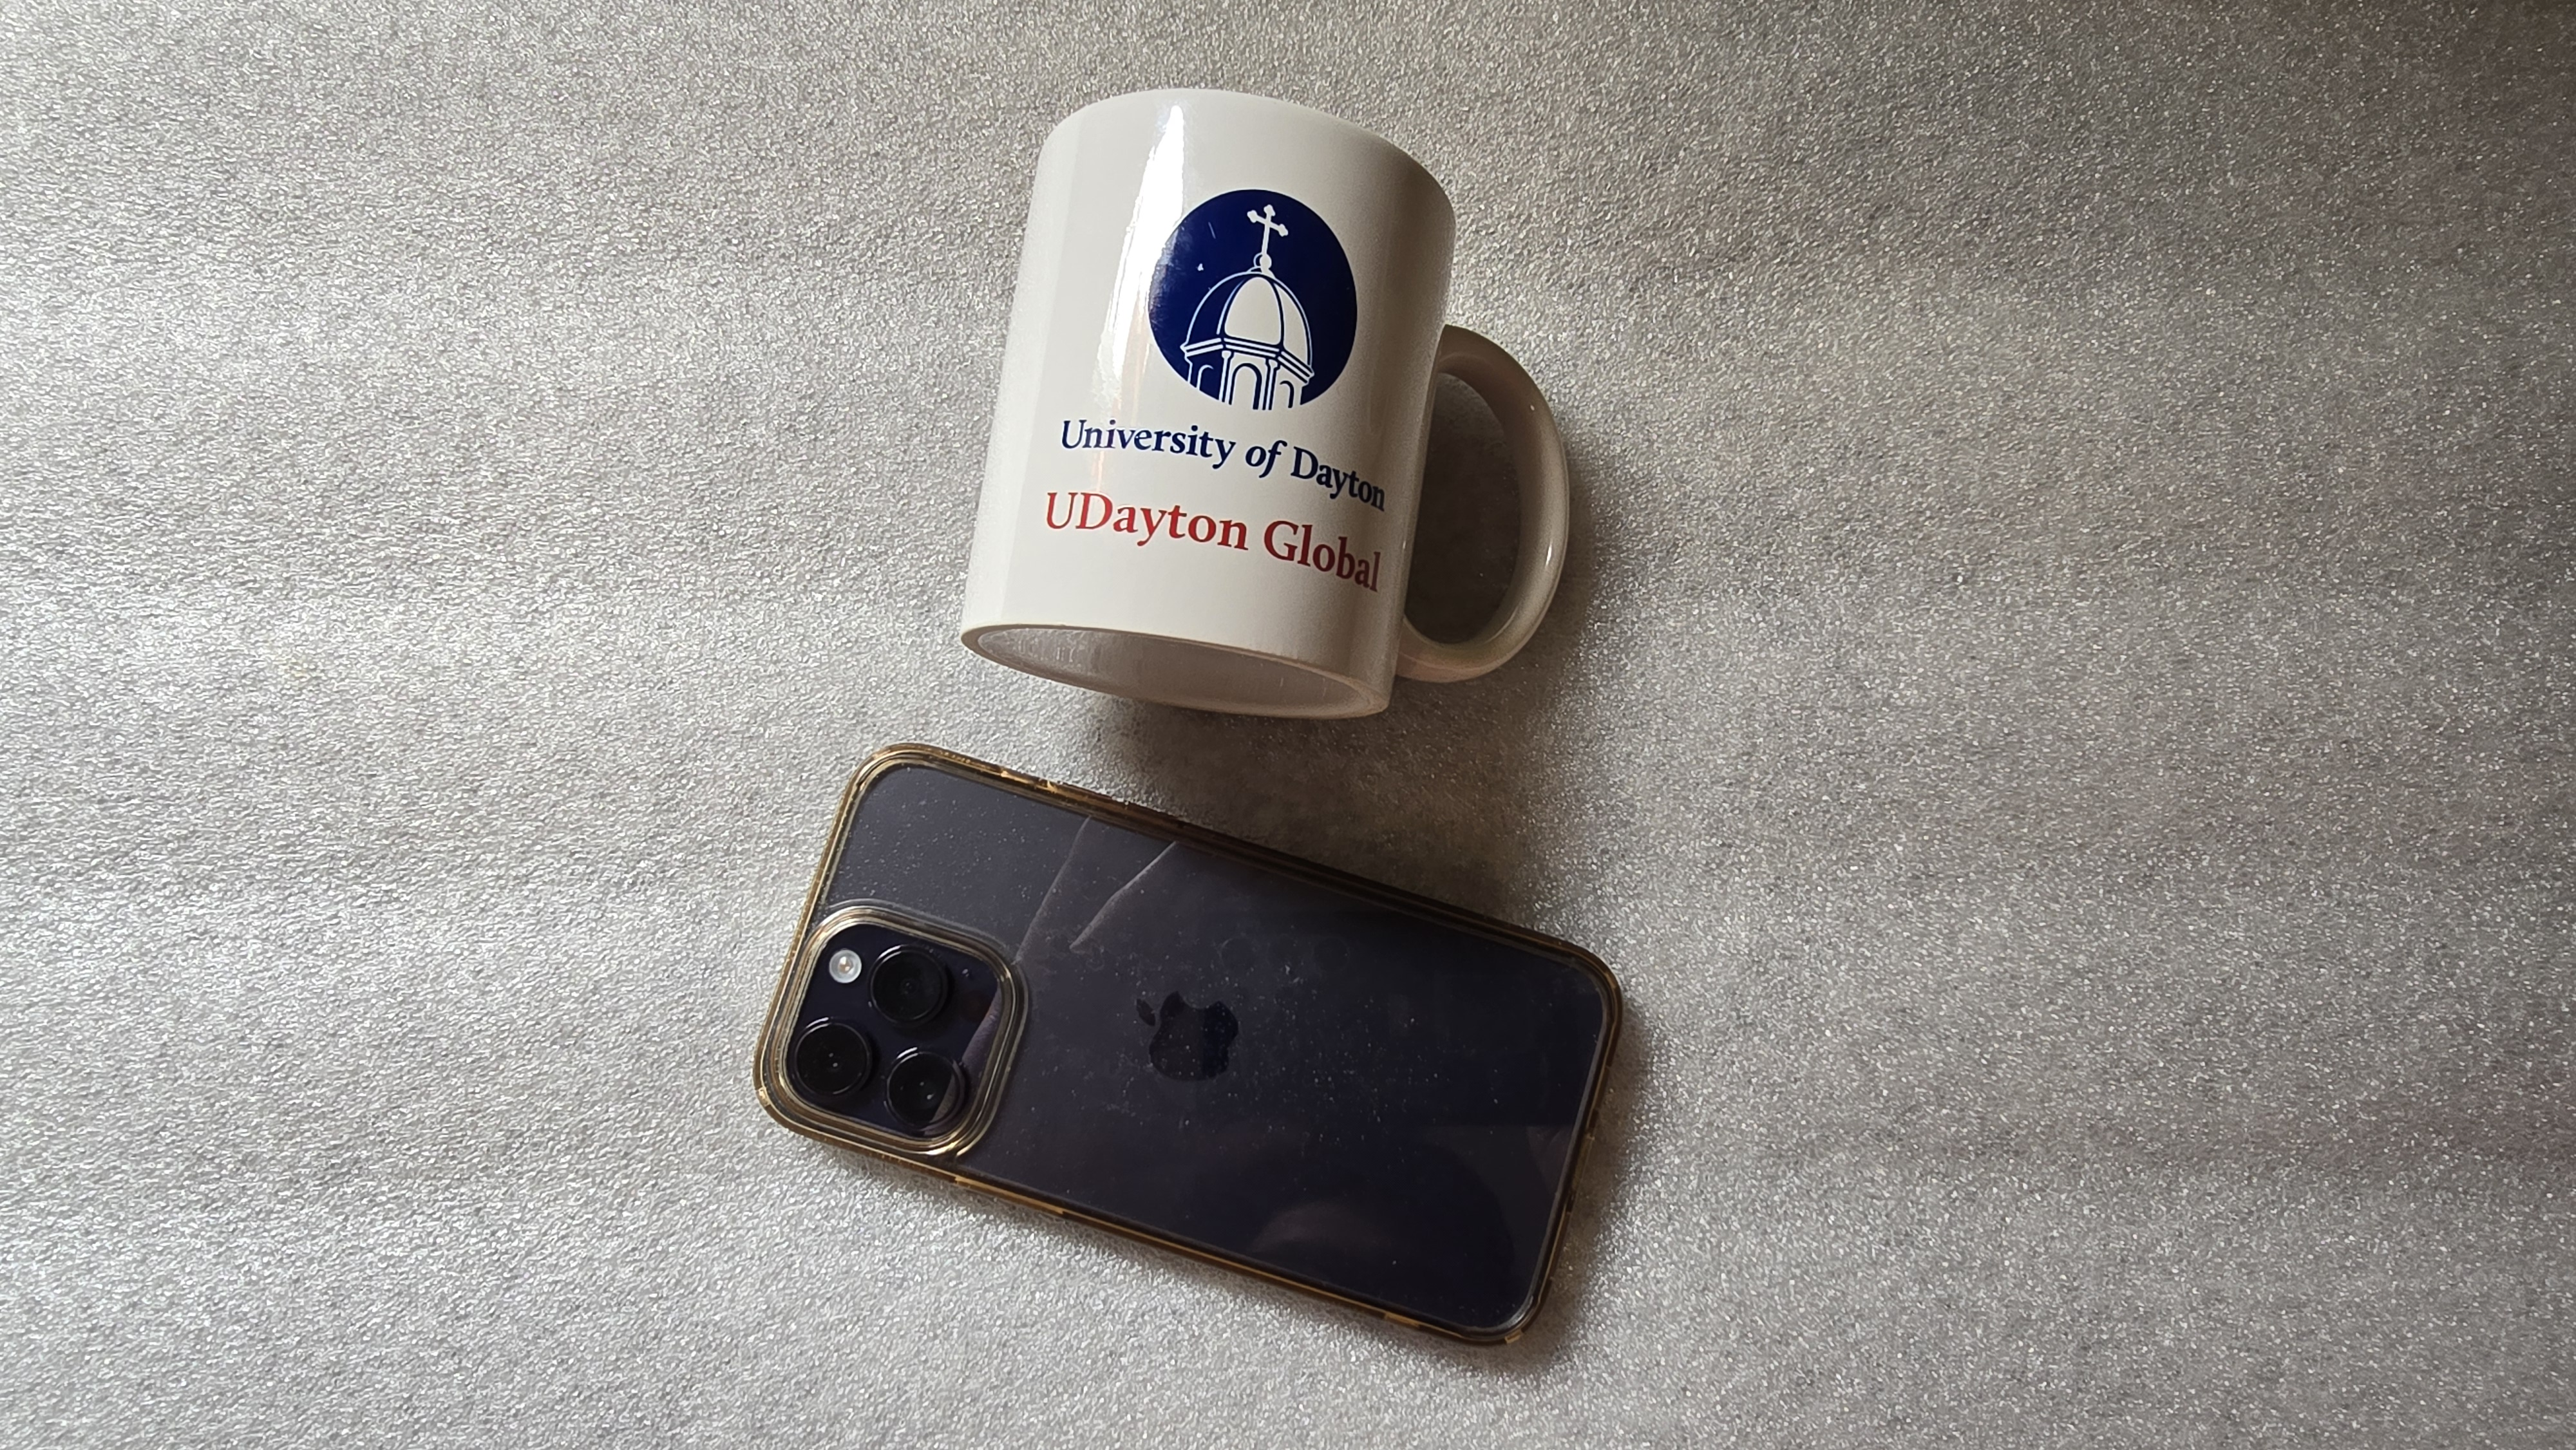mug: (943, 71, 1638, 744)
